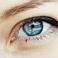eye: (23, 21, 43, 36)
